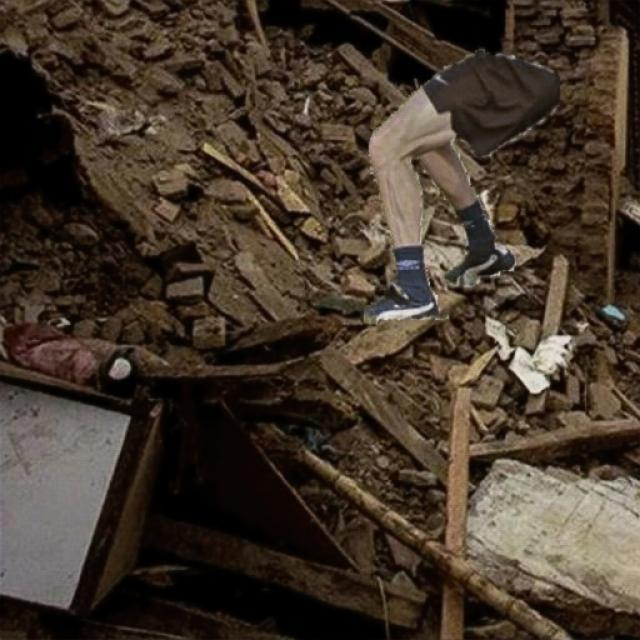Person in Rubble: (364, 49, 558, 325)
